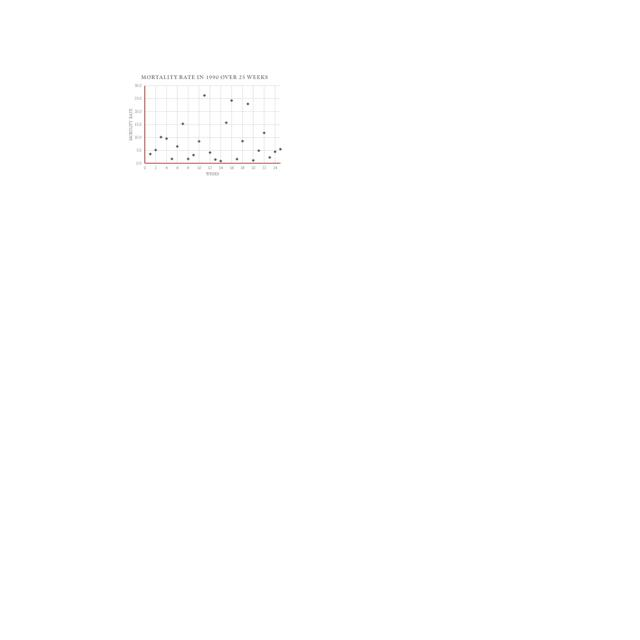Graph: (127, 72, 285, 178)
